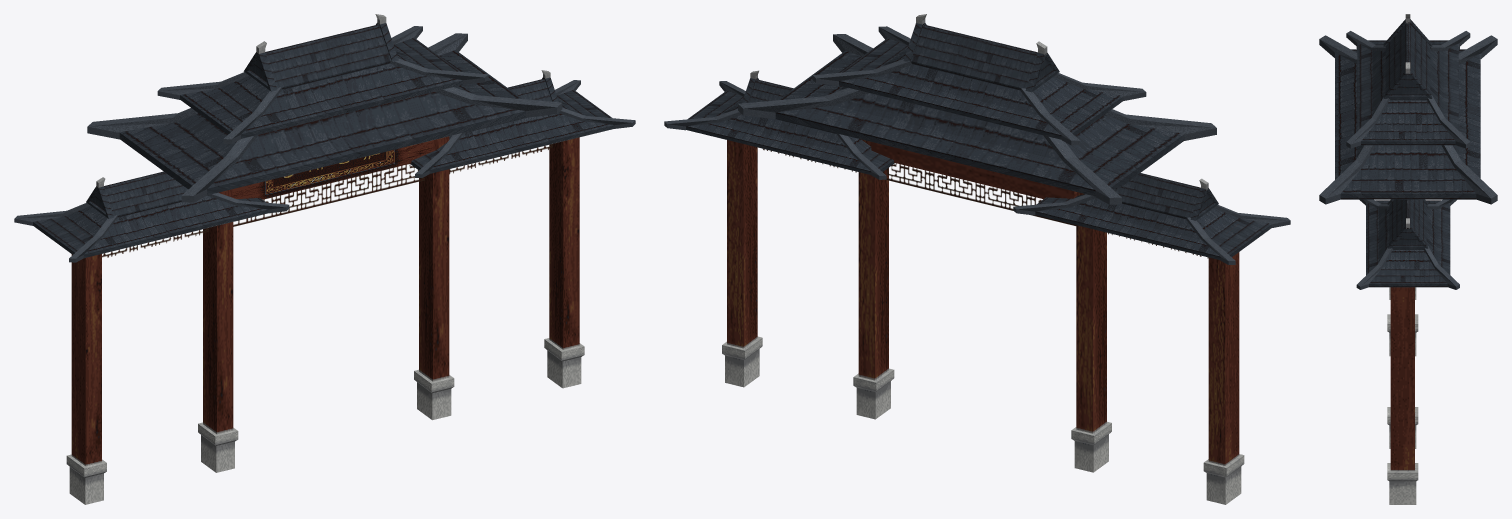
File: mdl_hub_chinesearchitecture.gltf
The picture shows the model from 3 angles, left to right: view 1: azimuth 30°, elevation 25°; view 2: azimuth 150°, elevation 25°; view 3: azimuth 270°, elevation 25°; orthographic projection. The views are drawn at different scales.
Visible parts, largest first — view 1: Object097_Material #25_0, Object097_Material #37_0; view 2: Object097_Material #25_0, Object097_Material #37_0; view 3: Object097_Material #25_0.
Part boxes in pixels (x1=…): Object097_Material #25_0: x1=14, y1=14, x2=635, y2=504; Object097_Material #37_0: x1=102, y1=144, x2=552, y2=257; Object097_Material #25_0: x1=664, y1=14, x2=1290, y2=504; Object097_Material #37_0: x1=756, y1=147, x2=1208, y2=258; Object097_Material #25_0: x1=1319, y1=14, x2=1497, y2=504.
Size of the model in its own units: 1436 by 989 by 444.
2 materials, 2 textured.
